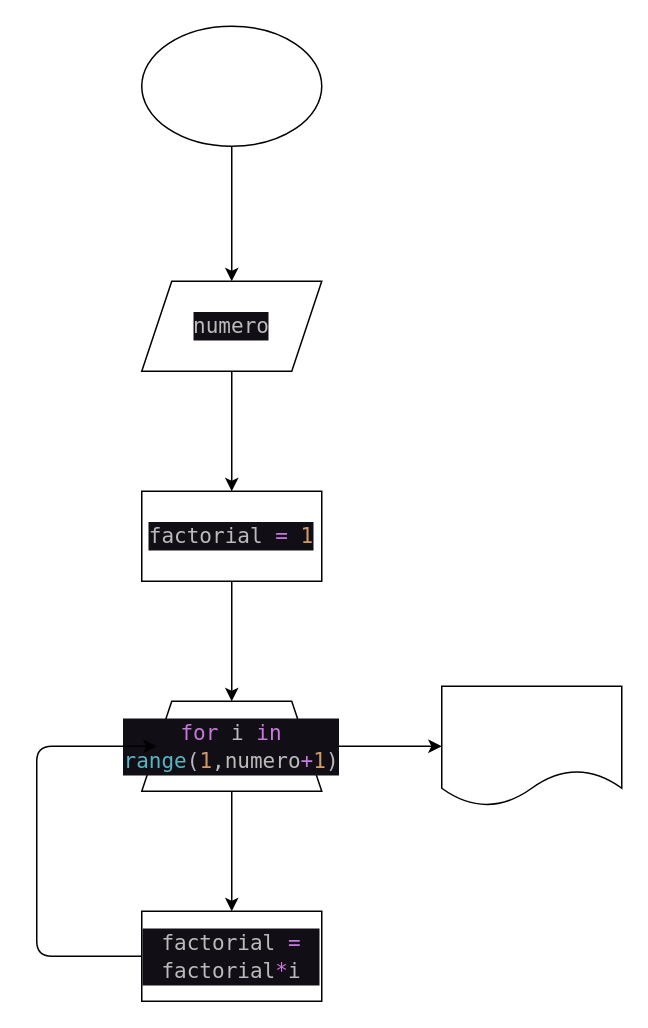
The diagram is 648 pixels wide and 1028 high, and some of its shapes have lost their labels. Here are the shapes that lost their labels. From the top down, the centre of each, then its label:
At point (231, 85): "inicio".
At point (531, 745): "numero, factorial".
